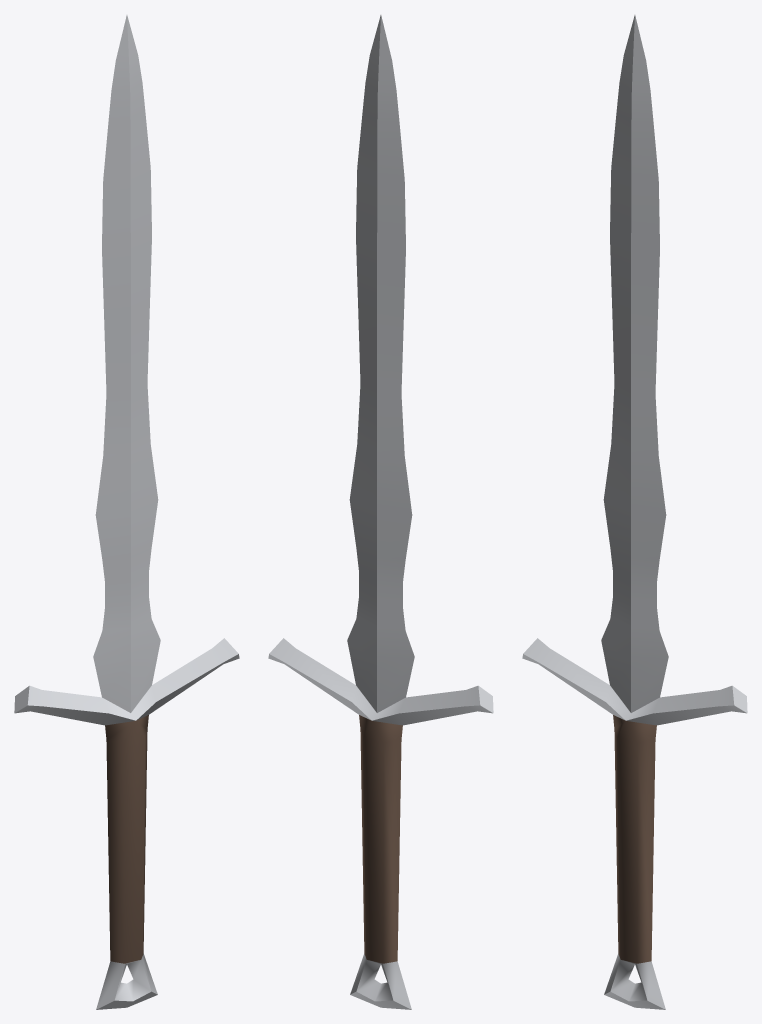
The model's file is Weapon_Longsword.glb.
3 renders of one model, left to right at view 1: azimuth 30°, elevation 25°; view 2: azimuth 150°, elevation 25°; view 3: azimuth 330°, elevation 25°, orthographic.
Visible parts, largest first — view 1: Weapon_Longsword; view 2: Weapon_Longsword; view 3: Weapon_Longsword.
Boxes of the visible parts, x1,y1,x2,y2 form: Weapon_Longsword: (14,15,239,1009); Weapon_Longsword: (268,15,493,1009); Weapon_Longsword: (522,15,747,1009).
Size of the model in its own units: 0.2728 by 1.15 by 0.0381.
